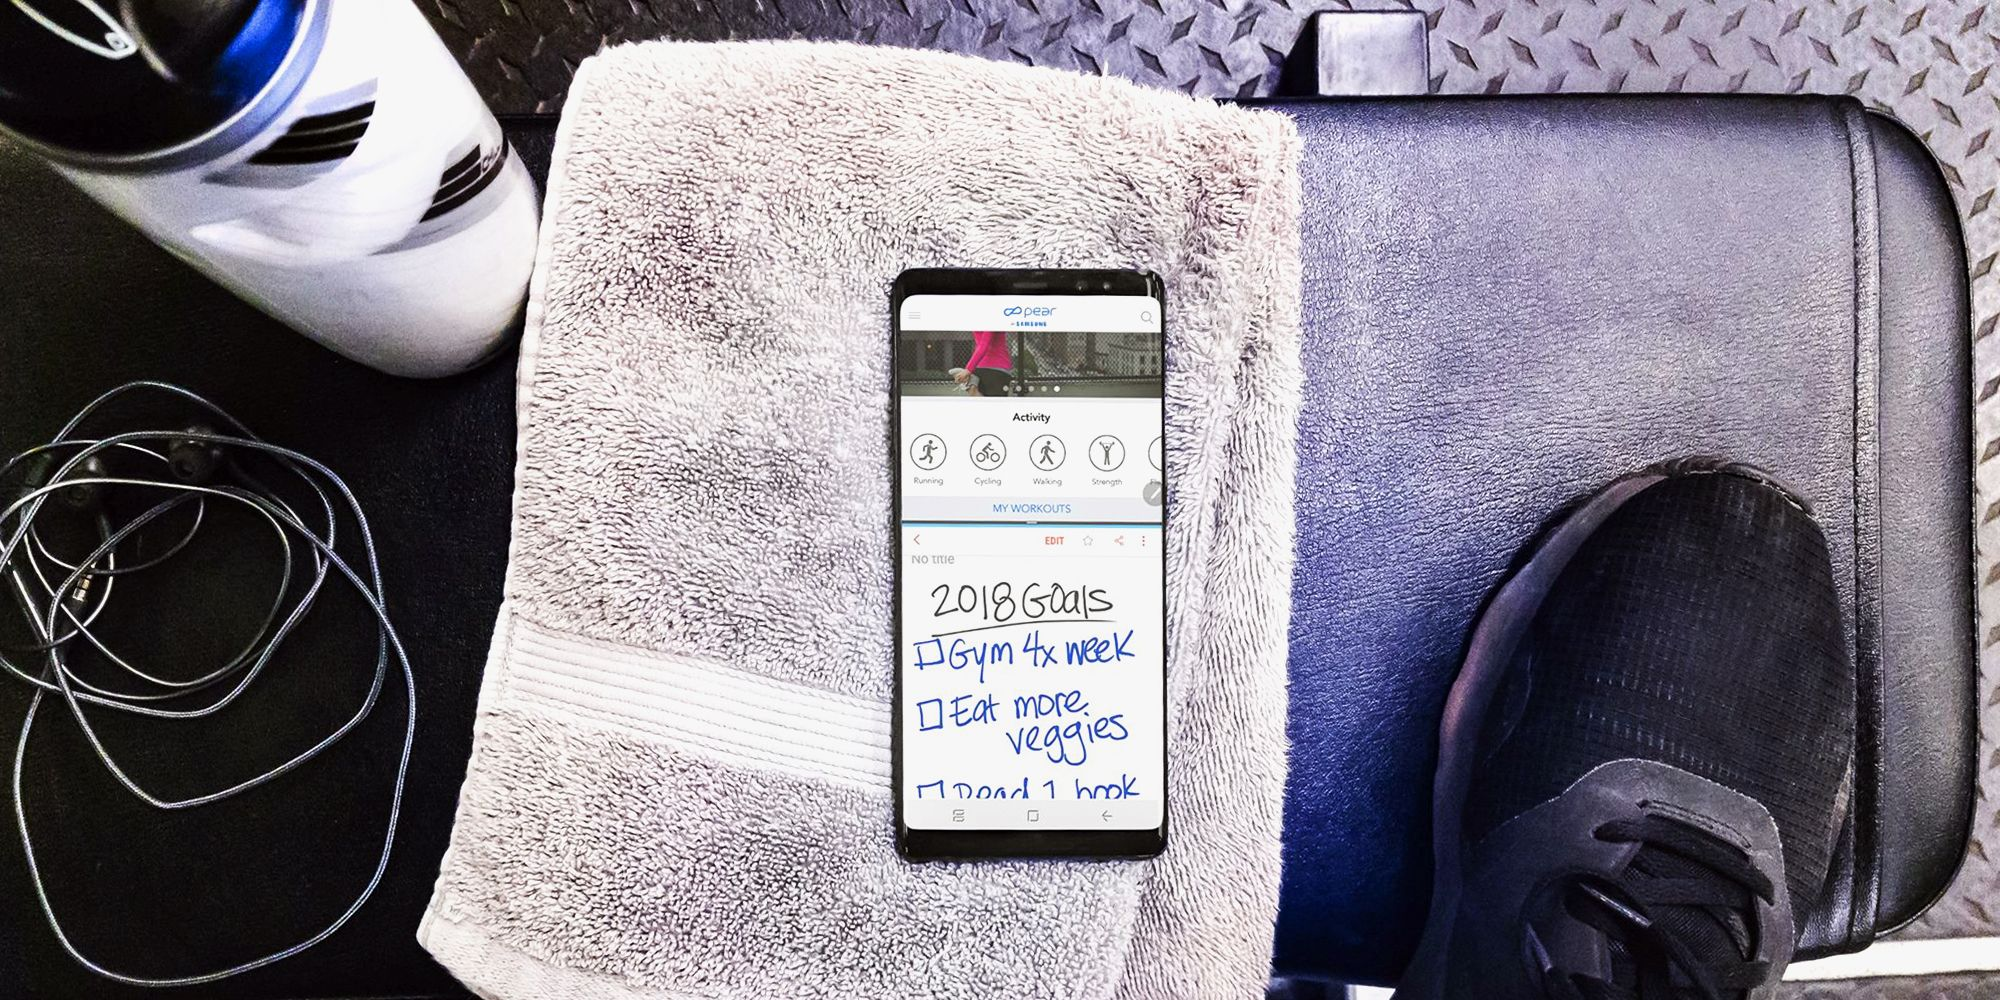Cell Phone: (886, 264, 1173, 866)
